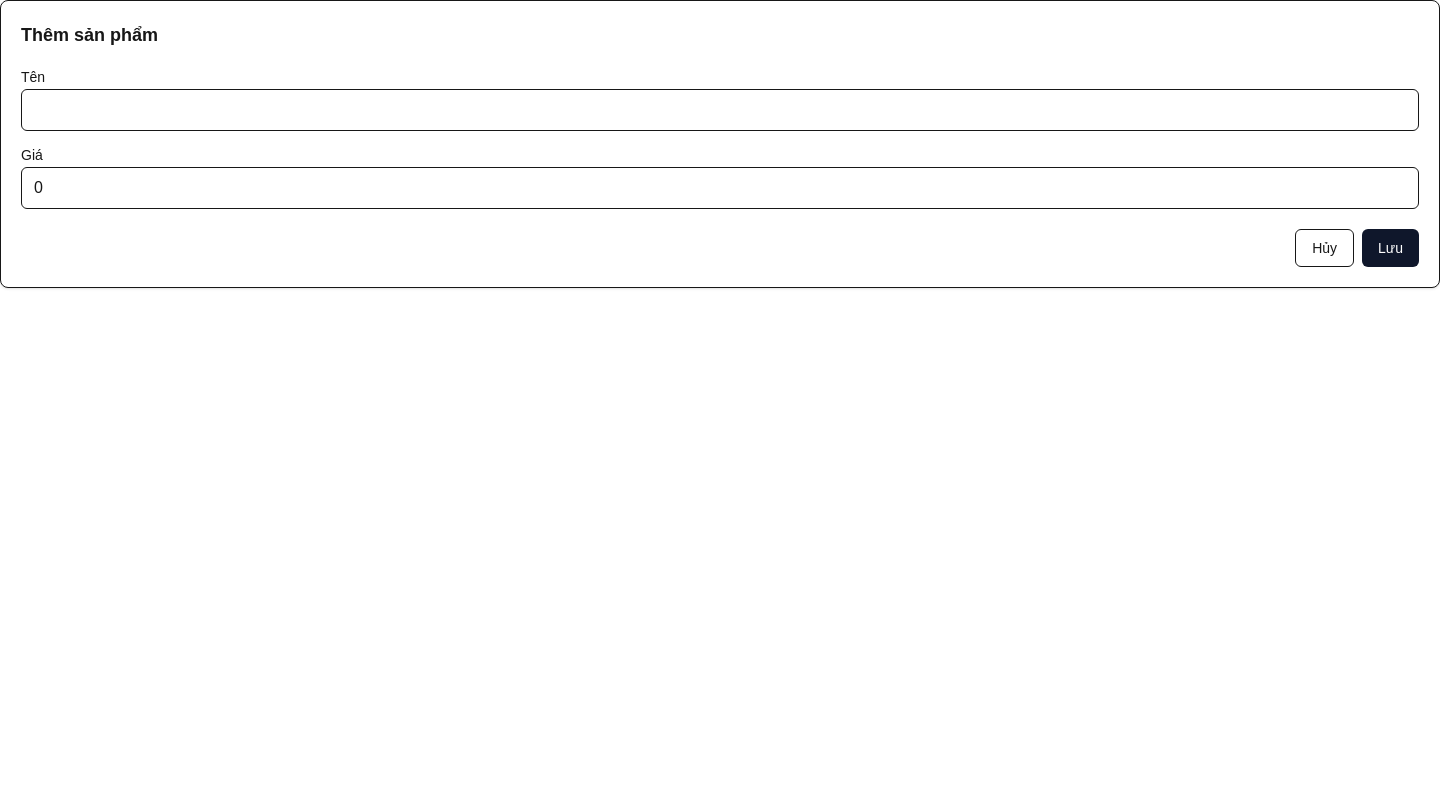
ResourceForm › blocks submission and shows the client-side validation message
Click the button "Lưu" at (1390, 248), box [1362,229,1419,267]
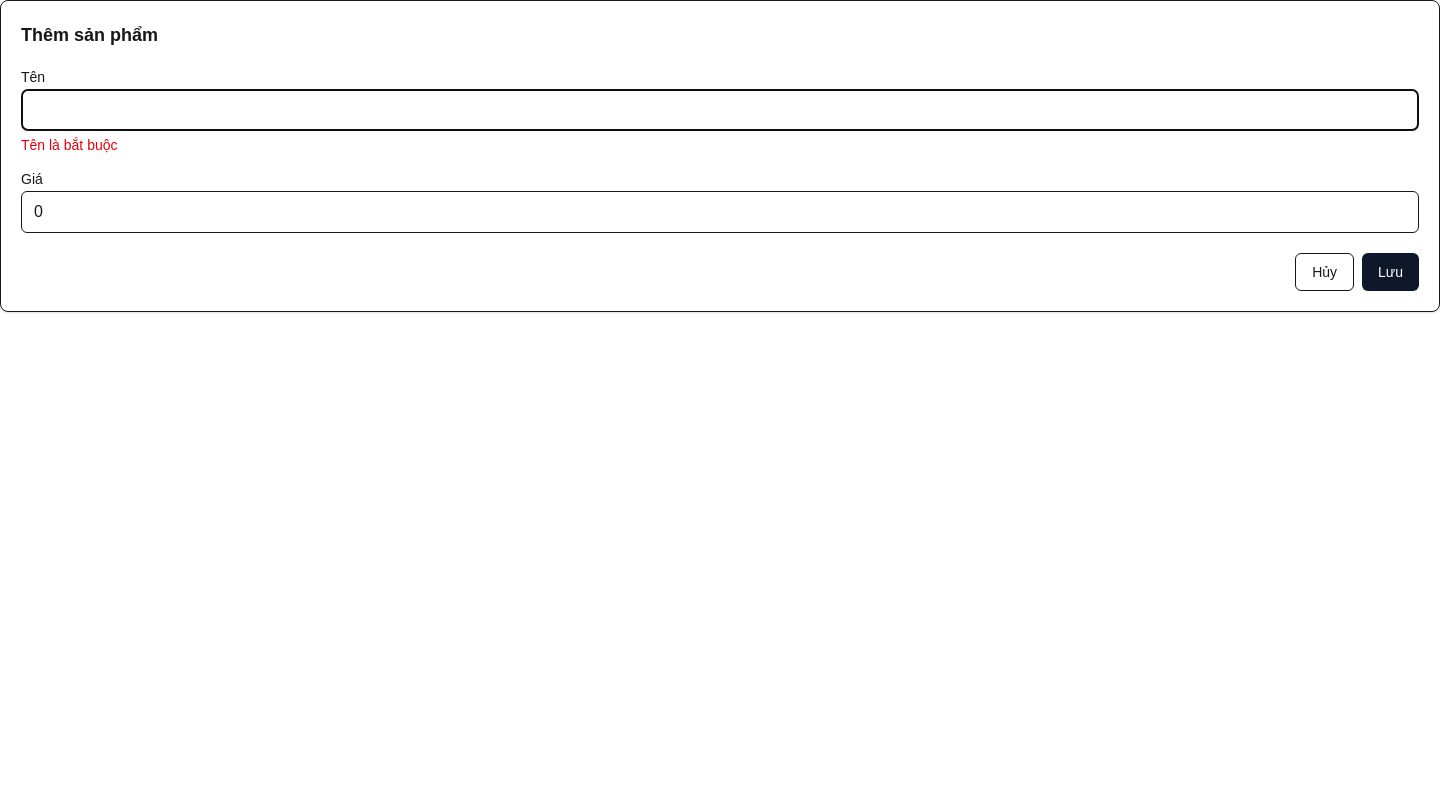
Check: the text "Tên là bắt buộc" is shown, box [21,137,118,153]
